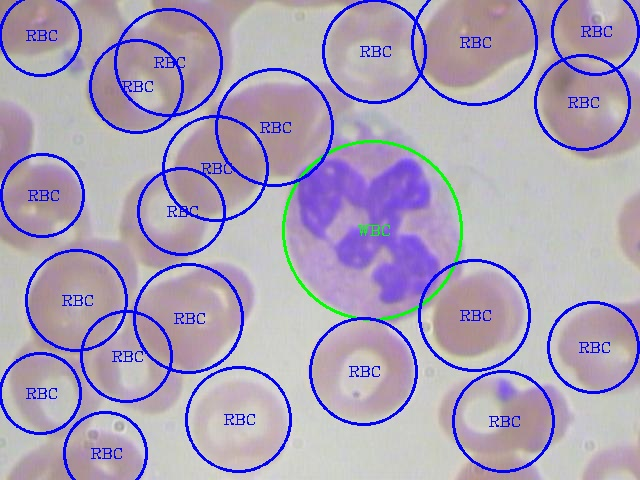Platelets: (55, 45, 89, 78)
RBC: (81, 22, 199, 133), (298, 317, 418, 421), (18, 251, 129, 356), (533, 55, 639, 161), (185, 373, 295, 472), (127, 275, 240, 370), (317, 5, 426, 103), (1, 343, 106, 440), (113, 167, 210, 269), (425, 265, 529, 359), (0, 158, 95, 259), (166, 121, 266, 216), (92, 322, 191, 416), (432, 368, 532, 458), (413, 2, 511, 92), (552, 296, 639, 395), (494, 379, 576, 454), (553, 0, 639, 61), (48, 430, 151, 478)
WBC: (274, 110, 471, 332)
